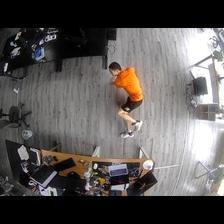fall: (108, 61, 144, 139)
